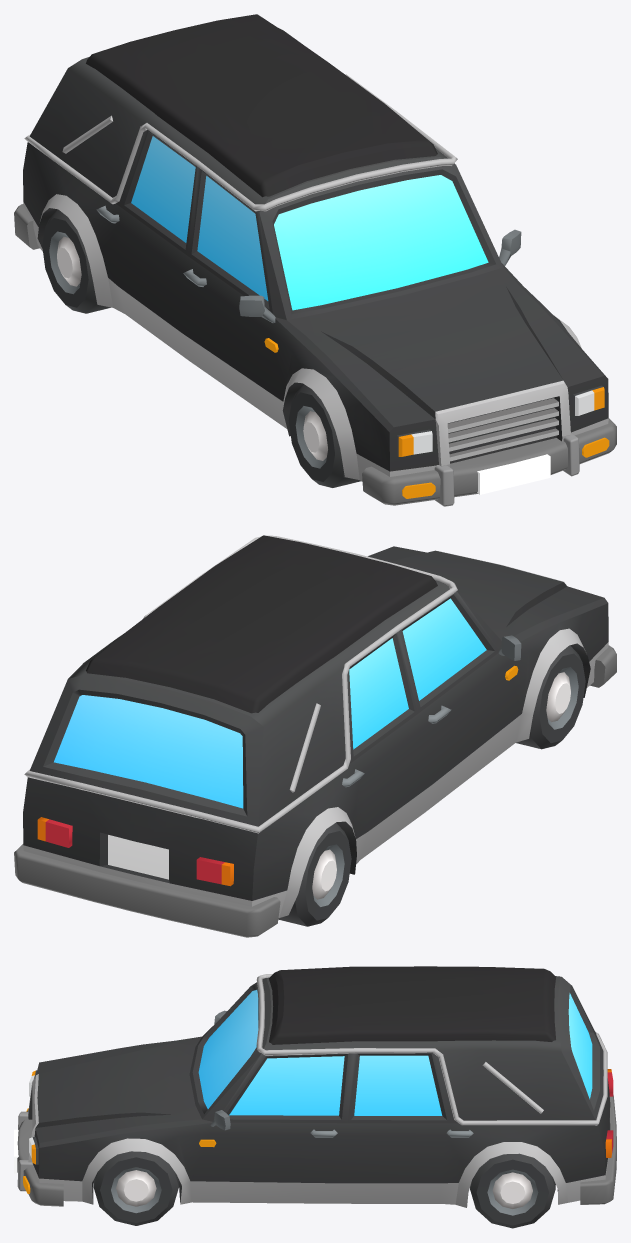
File: Car_04.glb
The picture shows the model from 3 angles, top to bottom: view 1: azimuth 30°, elevation 25°; view 2: azimuth 150°, elevation 25°; view 3: azimuth 270°, elevation 25°; orthographic projection. The views are drawn at different scales.
Visible parts, largest first — view 1: Car_04, Wheel_017, Wheel_018; view 2: Car_04, Wheel_018, Wheel_017; view 3: Car_04, Wheel_019, Wheel_020.
Boxes of the visible parts, x1,y1,x2,y2 form: Car_04: [14, 14, 616, 506]; Wheel_017: [288, 384, 360, 487]; Wheel_018: [42, 209, 110, 313]; Car_04: [14, 535, 616, 937]; Wheel_018: [278, 823, 351, 926]; Wheel_017: [516, 645, 585, 749]; Car_04: [14, 966, 616, 1207]; Wheel_019: [93, 1151, 178, 1225]; Wheel_020: [470, 1153, 555, 1228].
Size of the model in its own units: 2.53 by 2.05 by 5.99.
Materials: 2 (2 with a texture image).
